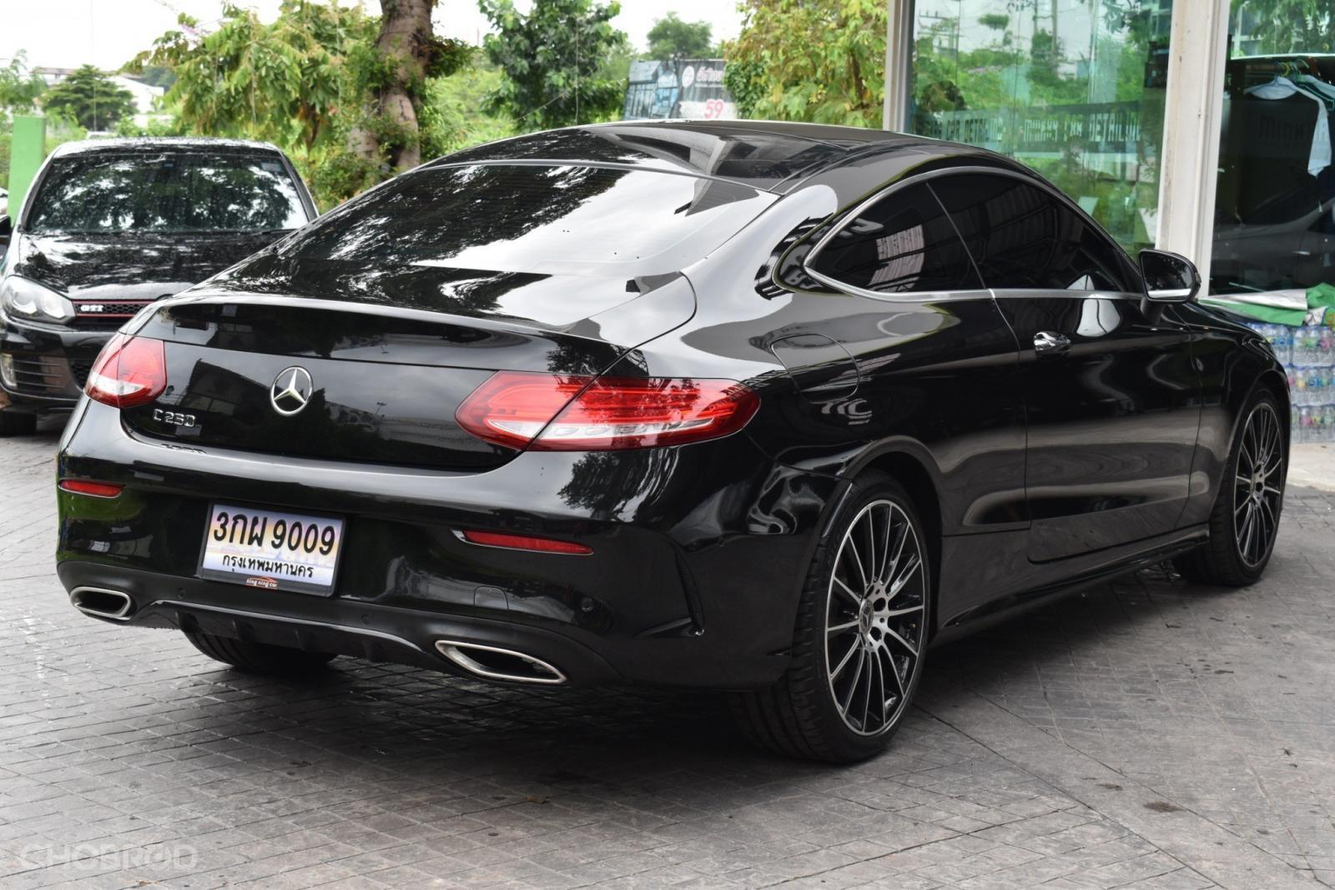license-plate: (193, 491, 344, 601)
